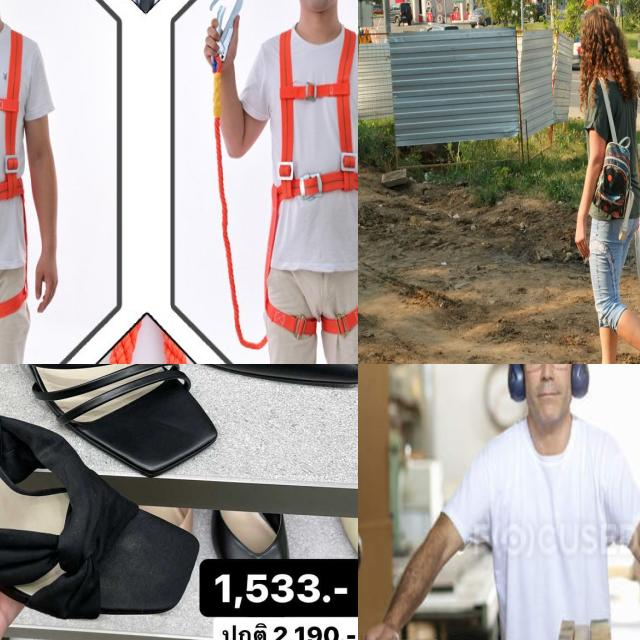Ear-protection: (504, 364, 593, 439)
Harness: (266, 24, 358, 344), (0, 20, 26, 336)
Sandals: (0, 364, 224, 640), (0, 364, 239, 502)
glasses: (519, 364, 576, 370)
person: (366, 364, 640, 640)
